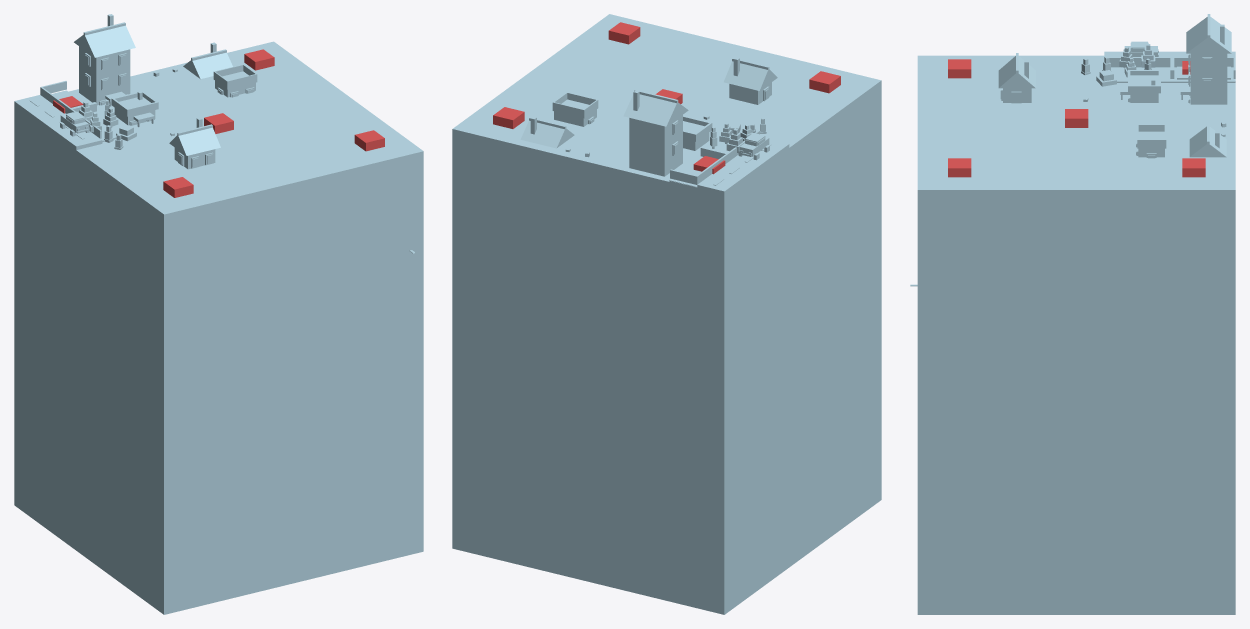
Rendered from block_4_sewersystem_100.glb.
The picture shows the model from 3 angles, left to right: view 1: azimuth 30°, elevation 25°; view 2: azimuth 150°, elevation 25°; view 3: azimuth 270°, elevation 25°; orthographic projection. The views are drawn at different scales.
Parts seen in each view (by area): view 1: Patch_UpperLeft_b03_SL, Bungalows_UpperLeft_b03_SL, Roads_UpperLeft_b03_SL, SL_Net_04; view 2: Patch_UpperLeft_b03_SL, Bungalows_UpperLeft_b03_SL, SL_Net_04, Roads_UpperLeft_b03_SL, ULCar_014_SL; view 3: Patch_UpperLeft_b03_SL, Bungalows_UpperLeft_b03_SL, SL_Net_04, Roads_UpperLeft_b03_SL.
Part boxes in pixels (x1,y1,x2,y2): Patch_UpperLeft_b03_SL: [14, 41, 423, 614]; Bungalows_UpperLeft_b03_SL: [40, 14, 257, 169]; Roads_UpperLeft_b03_SL: [14, 95, 422, 262]; SL_Net_04: [53, 49, 384, 197]; Patch_UpperLeft_b03_SL: [452, 14, 881, 614]; Bungalows_UpperLeft_b03_SL: [479, 57, 777, 202]; SL_Net_04: [493, 22, 840, 174]; Roads_UpperLeft_b03_SL: [452, 137, 831, 196]; ULCar_014_SL: [738, 133, 769, 160]; Patch_UpperLeft_b03_SL: [917, 55, 1235, 614]; Bungalows_UpperLeft_b03_SL: [998, 14, 1235, 158]; SL_Net_04: [948, 59, 1205, 177]; Roads_UpperLeft_b03_SL: [919, 51, 1235, 295].
Size of the model in its own units: 9.5 by 16.52 by 9.72.
